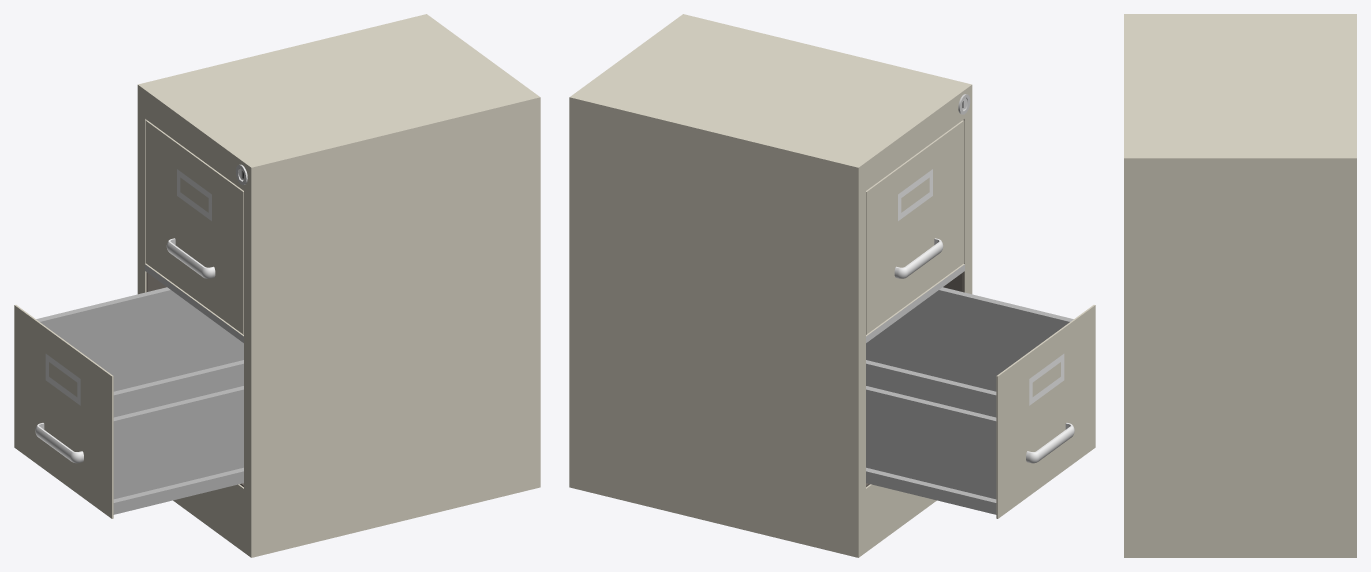
File: filingcabinet1.gltf
3 views of the same model, side by side, from view 1: azimuth 30°, elevation 25°; view 2: azimuth 150°, elevation 25°; view 3: azimuth 270°, elevation 25° (orthographic). The views are drawn at different scales.
Visible parts, largest first — view 1: group_0.007, group_2.007, group_2, group_0.009, group_0.006, group_0.008; view 2: group_0.007, group_2.007, group_2, group_0.009, group_0.006, group_0.008; view 3: group_0.007.
Boxes of the visible parts, x1,y1,x2,y2 form: group_0.007: (137, 14, 540, 557); group_2.007: (36, 287, 243, 514); group_2: (14, 305, 113, 518); group_0.009: (145, 120, 243, 334); group_0.006: (186, 484, 243, 538); group_0.008: (145, 264, 243, 342); group_0.007: (569, 14, 972, 557); group_2.007: (866, 287, 1073, 514); group_2: (996, 305, 1095, 518); group_0.009: (866, 120, 964, 334); group_0.006: (866, 484, 923, 538); group_0.008: (866, 264, 964, 342); group_0.007: (1124, 14, 1356, 557).
Size of the model in its own units: 0.832 by 0.721 by 0.381.
